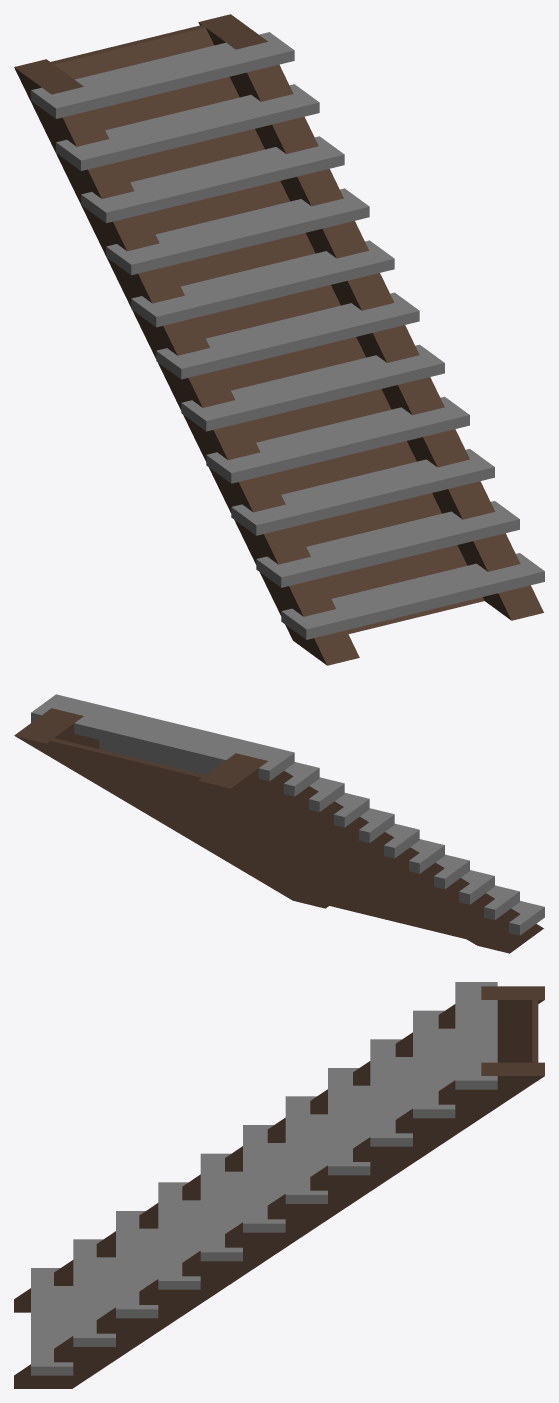
The model's file is StraightStairs_2.fbx.
3 renders of one model, top to bottom at view 1: azimuth 30°, elevation 25°; view 2: azimuth 150°, elevation 25°; view 3: azimuth 270°, elevation 25°, orthographic. The views are drawn at different scales.
Visible parts, largest first — view 1: P_StairsMouldedStraight; view 2: P_StairsMouldedStraight; view 3: P_StairsMouldedStraight.
Part boxes in pixels (x1,y1,x2,y2): P_StairsMouldedStraight: [14, 14, 544, 665]; P_StairsMouldedStraight: [14, 694, 544, 953]; P_StairsMouldedStraight: [14, 982, 544, 1388].
Bounding box in the file's own units: 2.2 × 3.26 × 5.01.
